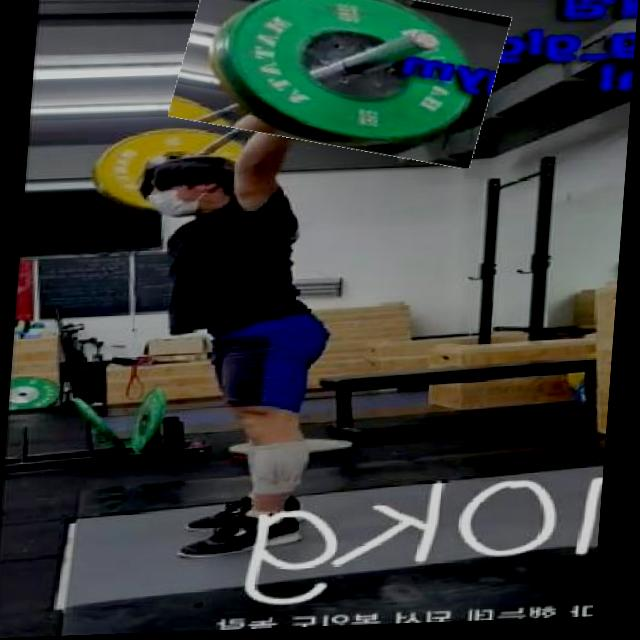barbell: (174, 1, 510, 167)
